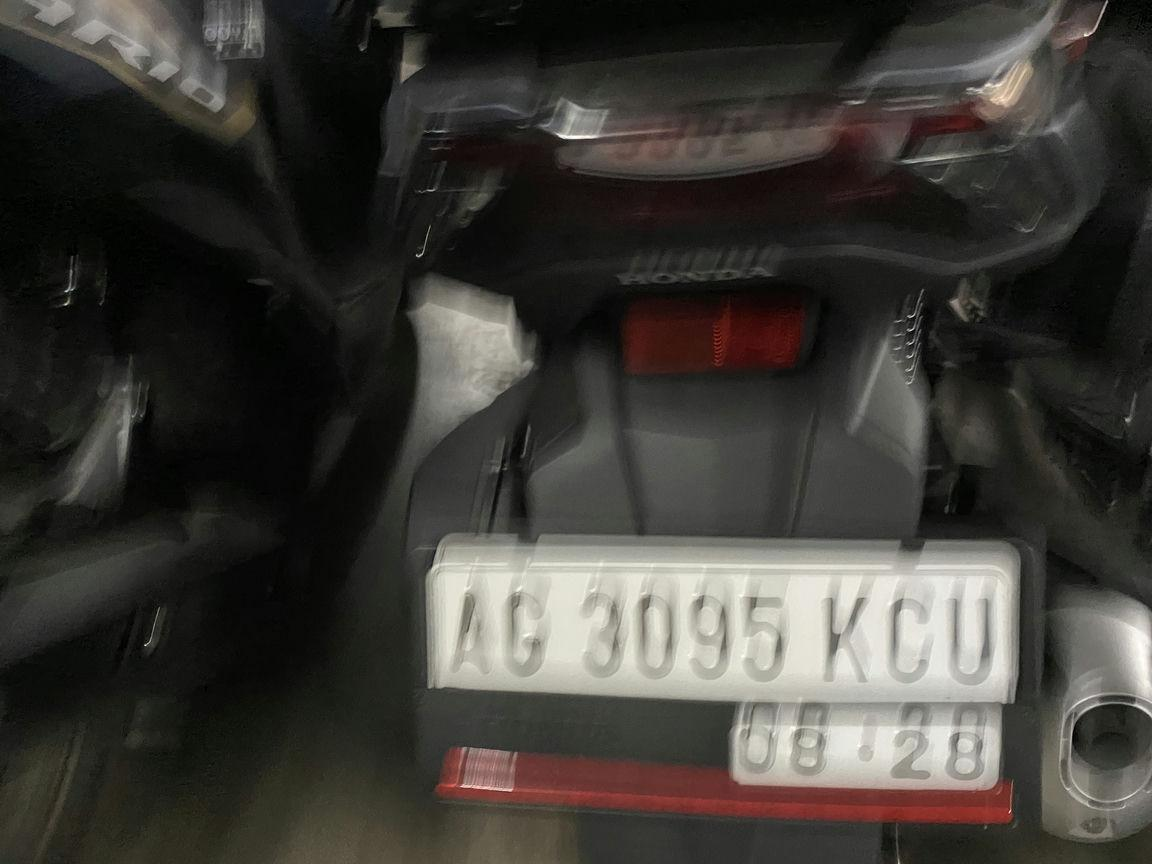plat: (425, 562, 1011, 797)
